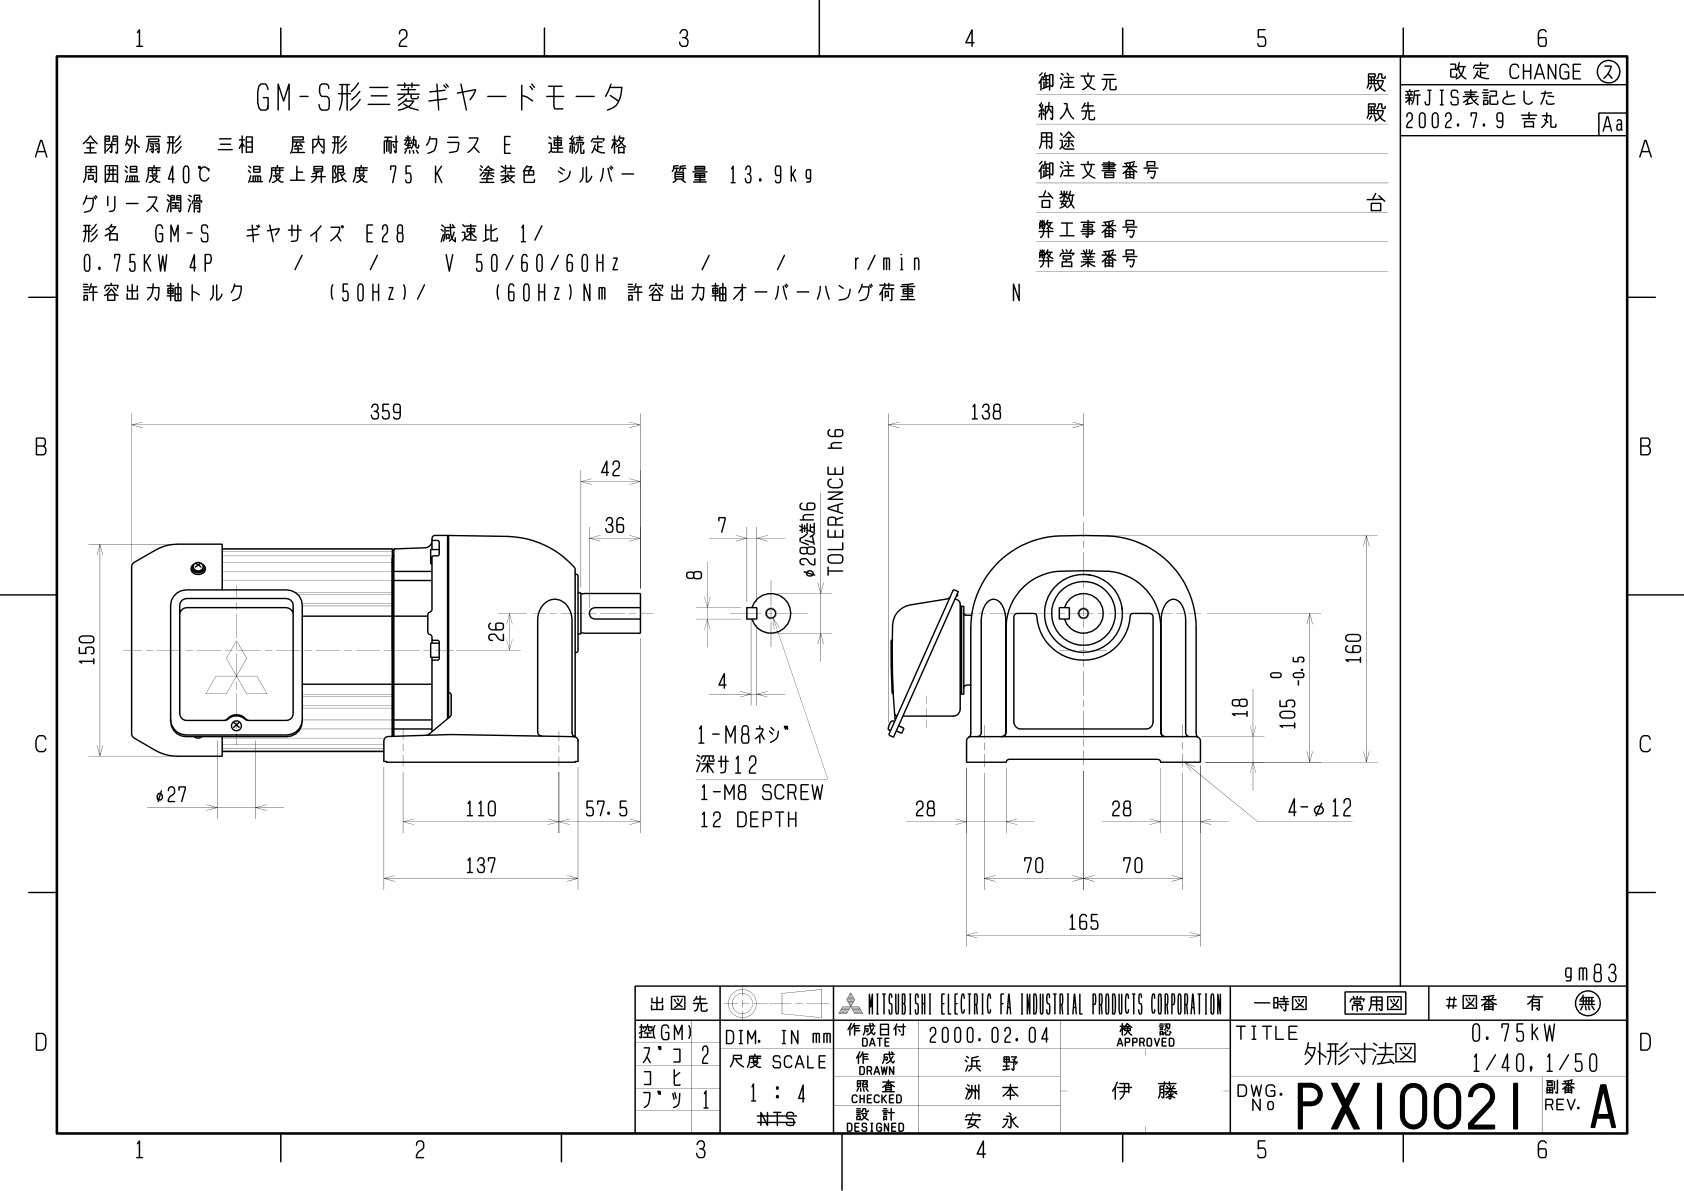GM_S_屋内＿三相_脚: (70, 347, 1393, 963)
